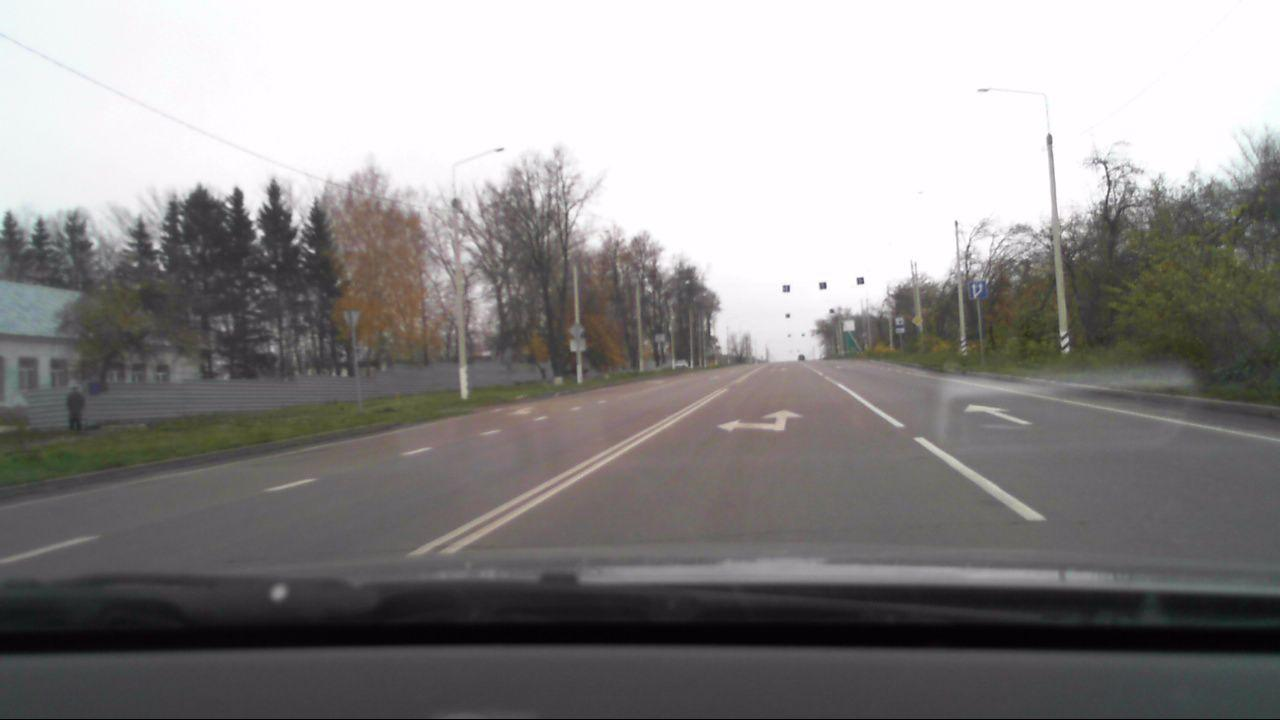5_15_3: (970, 281, 986, 297)
